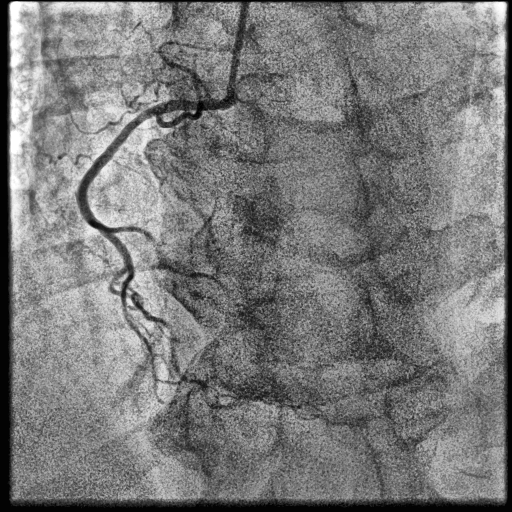rca: (78, 96, 234, 336)
